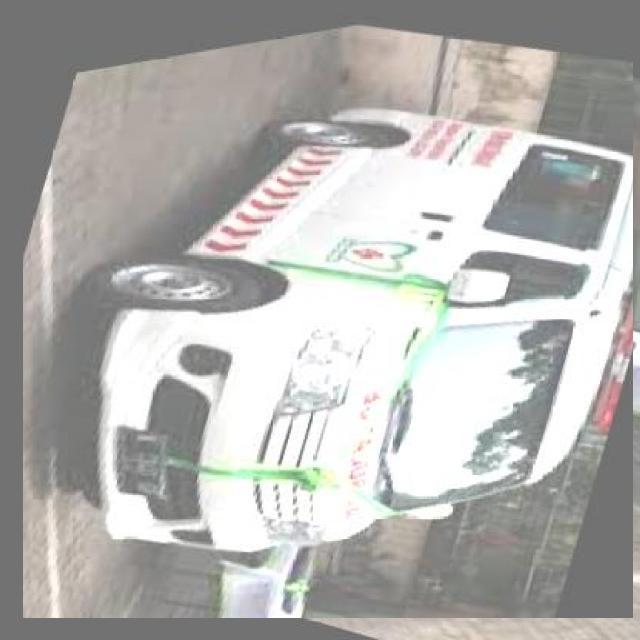emergency-vehicle: (18, 0, 636, 614)
